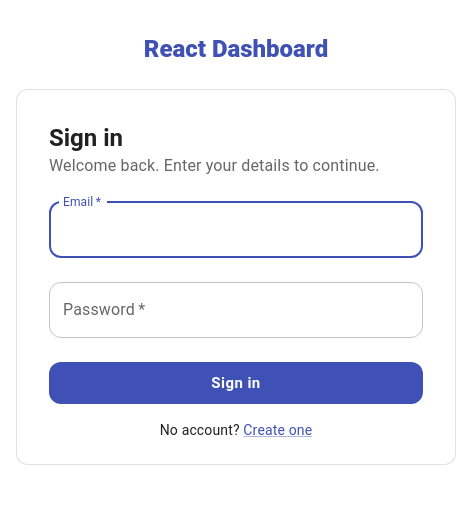
Test case: App (integration) › validates the login form before calling the API
Step 1. Click the button "Sign in" → click(236, 383), box x1=49 y1=362 x2=423 y2=404
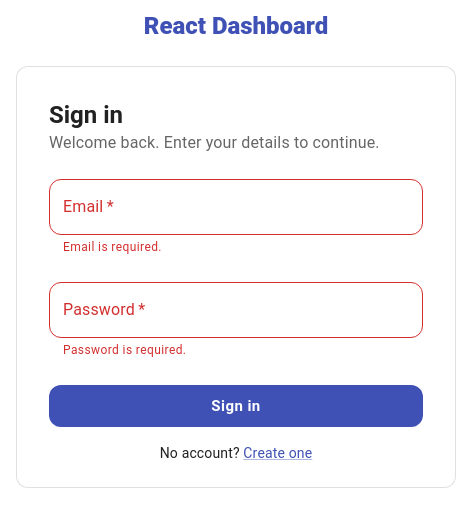
Expected: the text "Email is required." is shown, x1=63 y1=240 x2=162 y2=254
